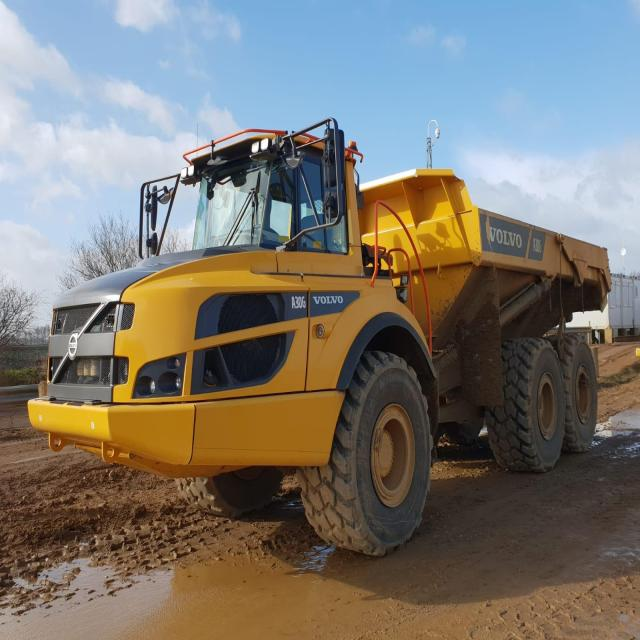dump_truck: (36, 104, 608, 559)
